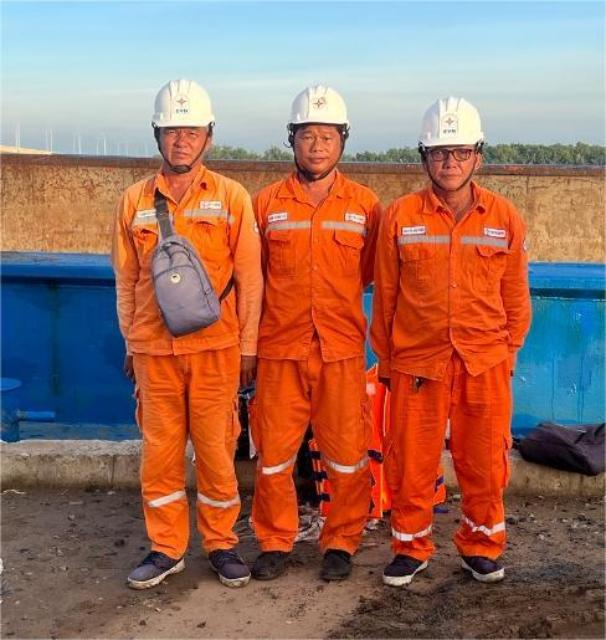helmet: (145, 65, 240, 141), (413, 83, 502, 157), (275, 81, 373, 138)
shoes: (109, 534, 190, 595), (369, 541, 439, 590), (209, 537, 252, 594), (314, 536, 361, 588), (451, 545, 507, 584), (252, 539, 294, 581)
